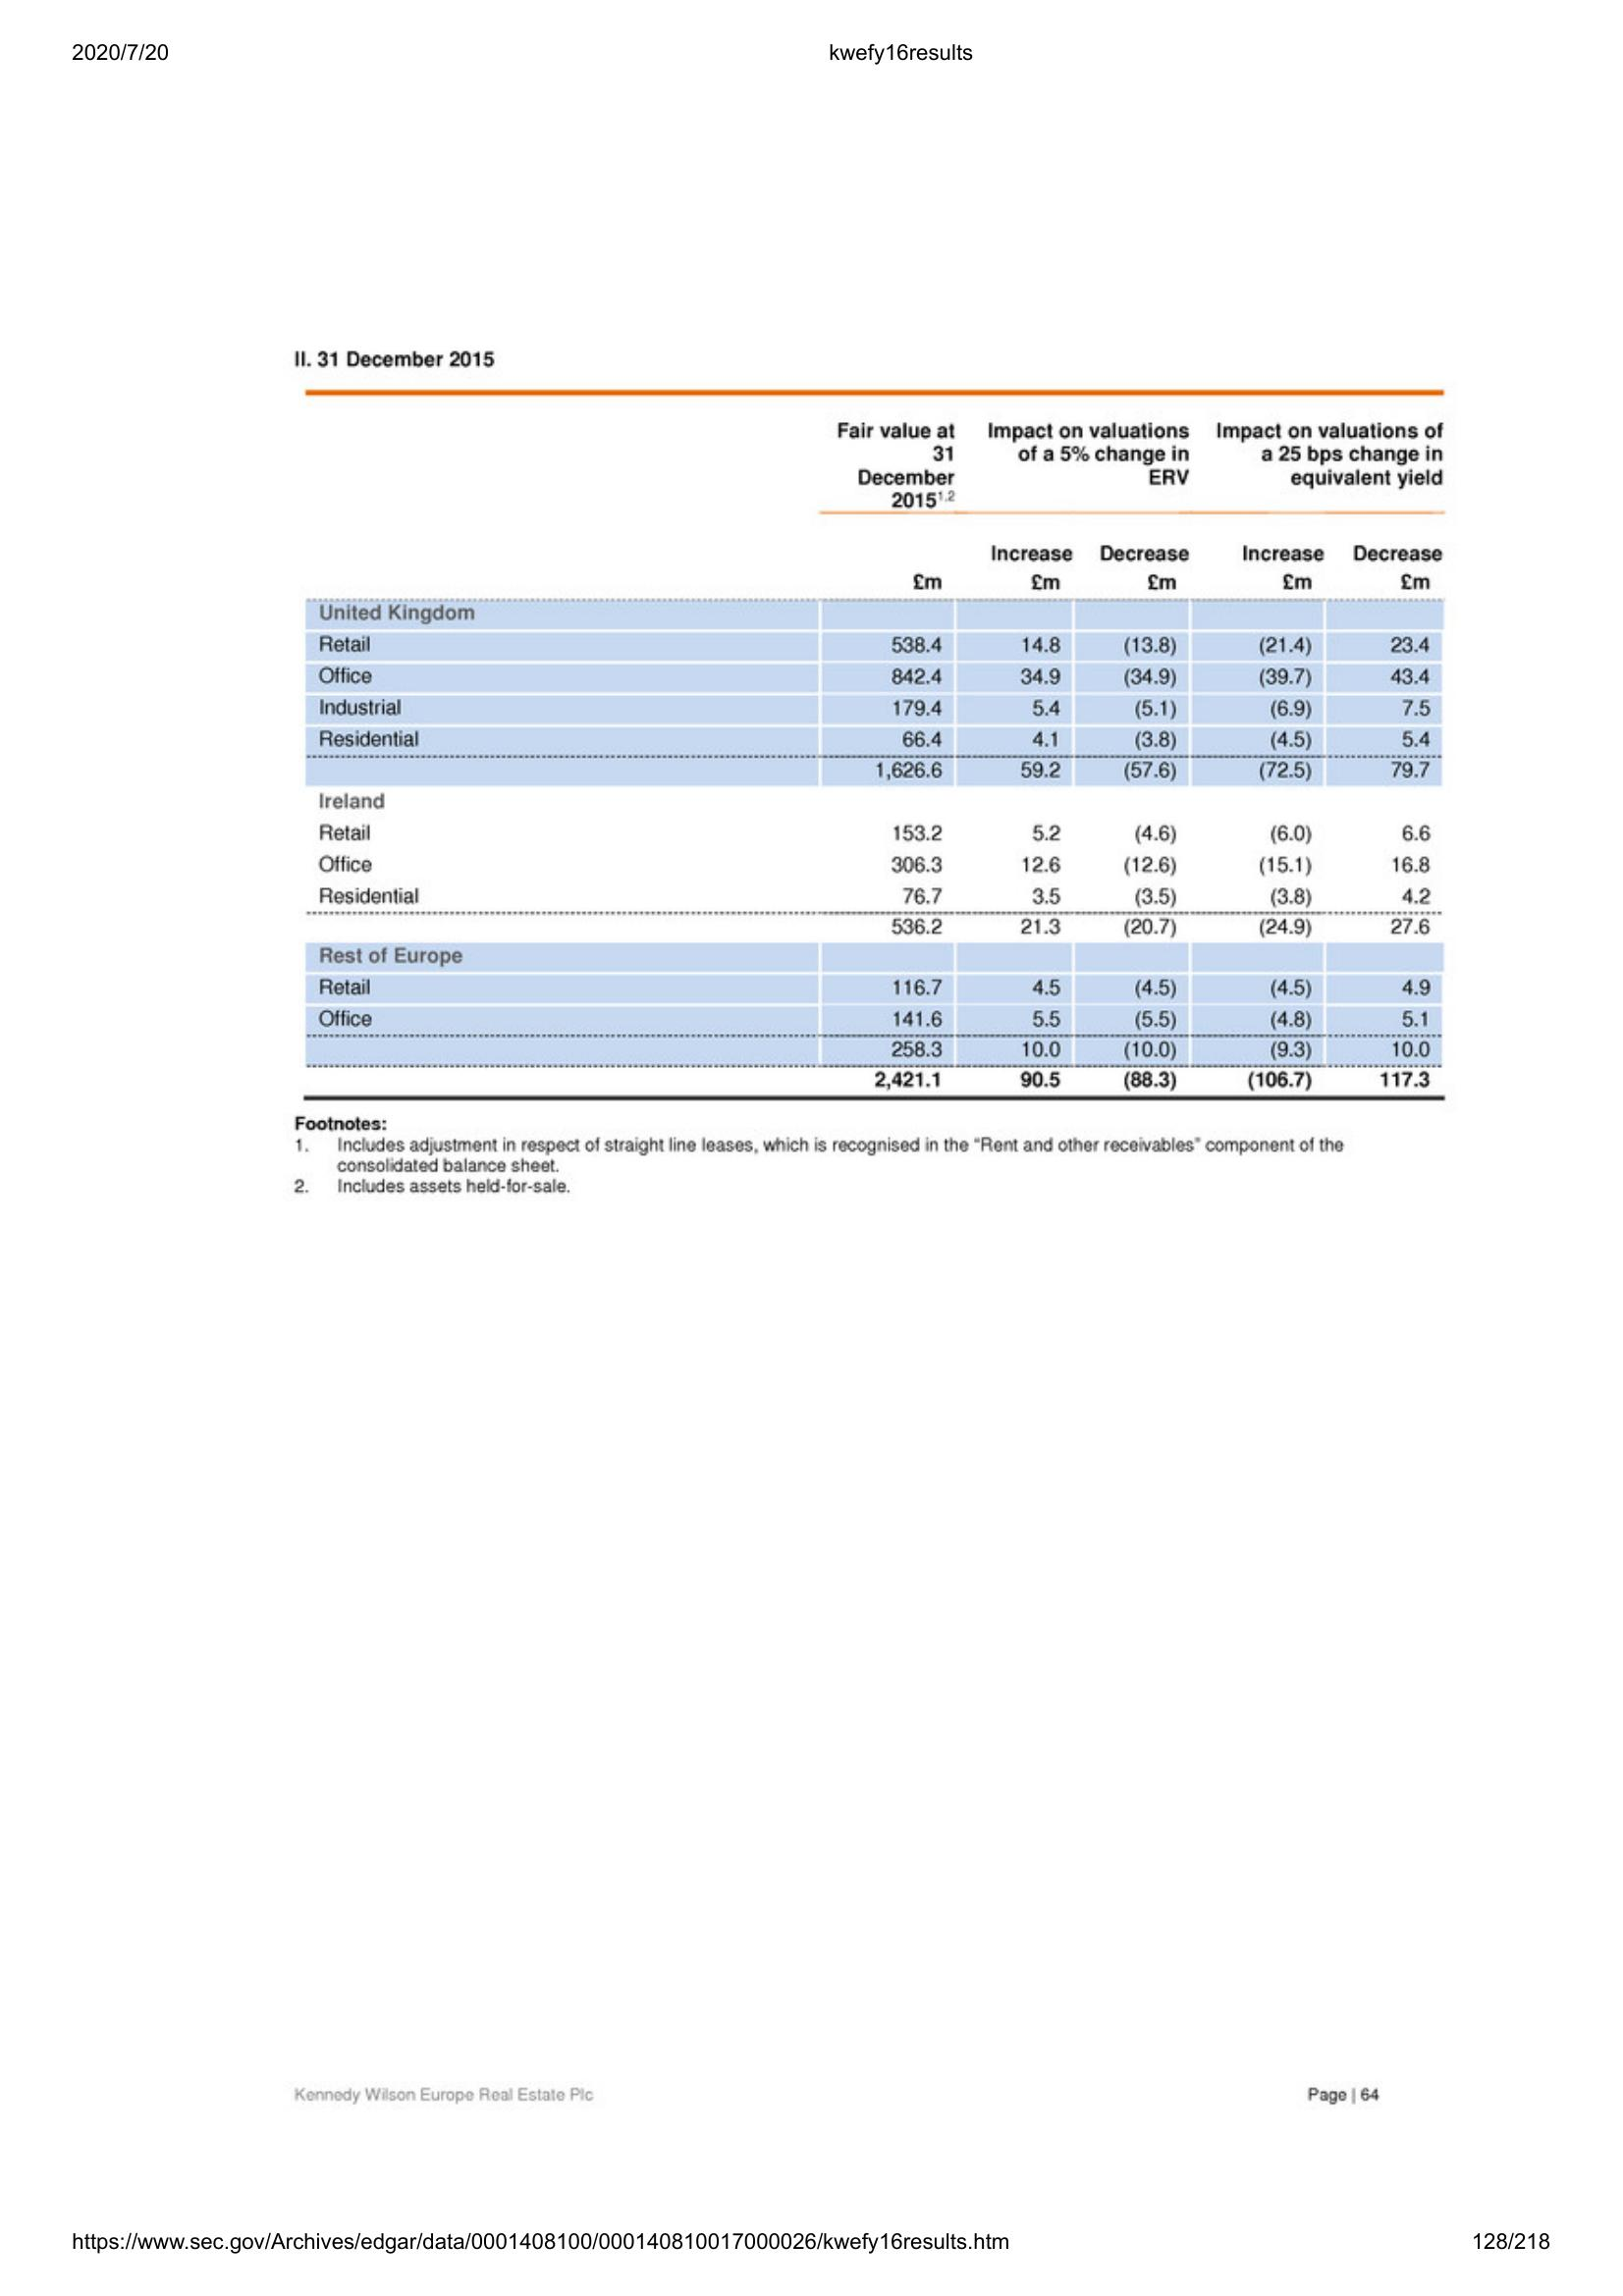table: (292, 384, 1461, 1113)
